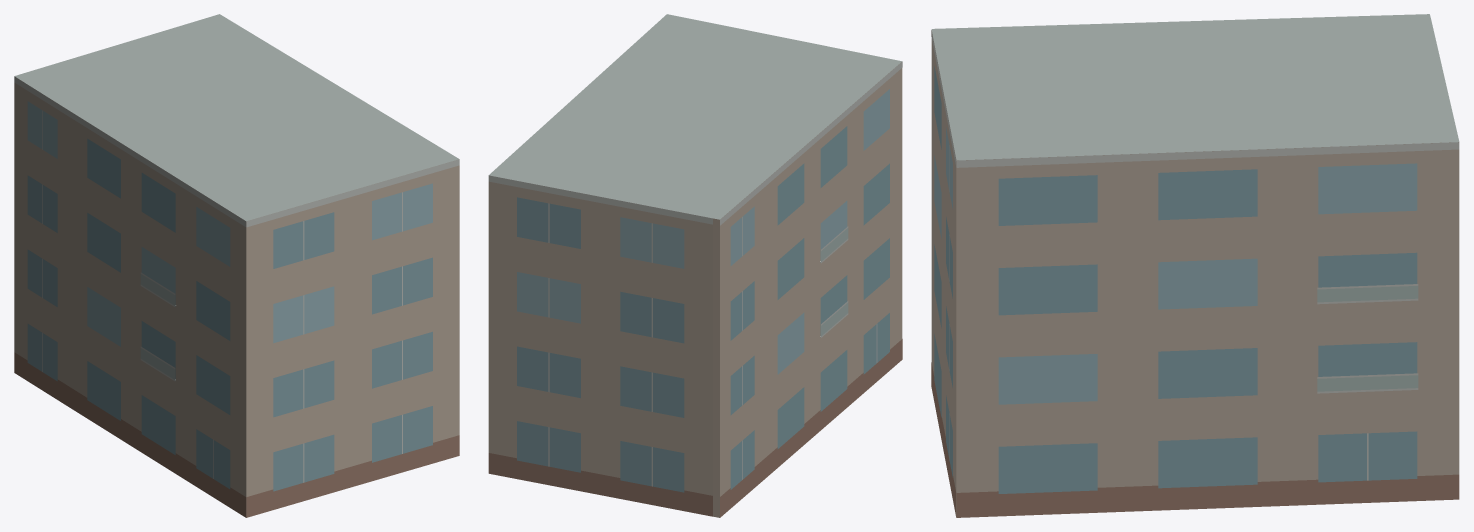
File: survey-upis-32670474.glb
3 views of the same model, side by side, from view 1: azimuth 30°, elevation 25°; view 2: azimuth 150°, elevation 25°; view 3: azimuth 270°, elevation 25° (orthographic). The views are drawn at different scales.
Parts seen in each view (by area): view 1: survey-upis-32670474.tmp; view 2: survey-upis-32670474.tmp; view 3: survey-upis-32670474.tmp.
Part boxes in pixels (<box>): survey-upis-32670474.tmp: <box>14,14,459,517</box>; survey-upis-32670474.tmp: <box>488,14,902,517</box>; survey-upis-32670474.tmp: <box>931,14,1459,517</box>.
Size of the model in its own units: 10.29 by 11.7 by 15.68.
